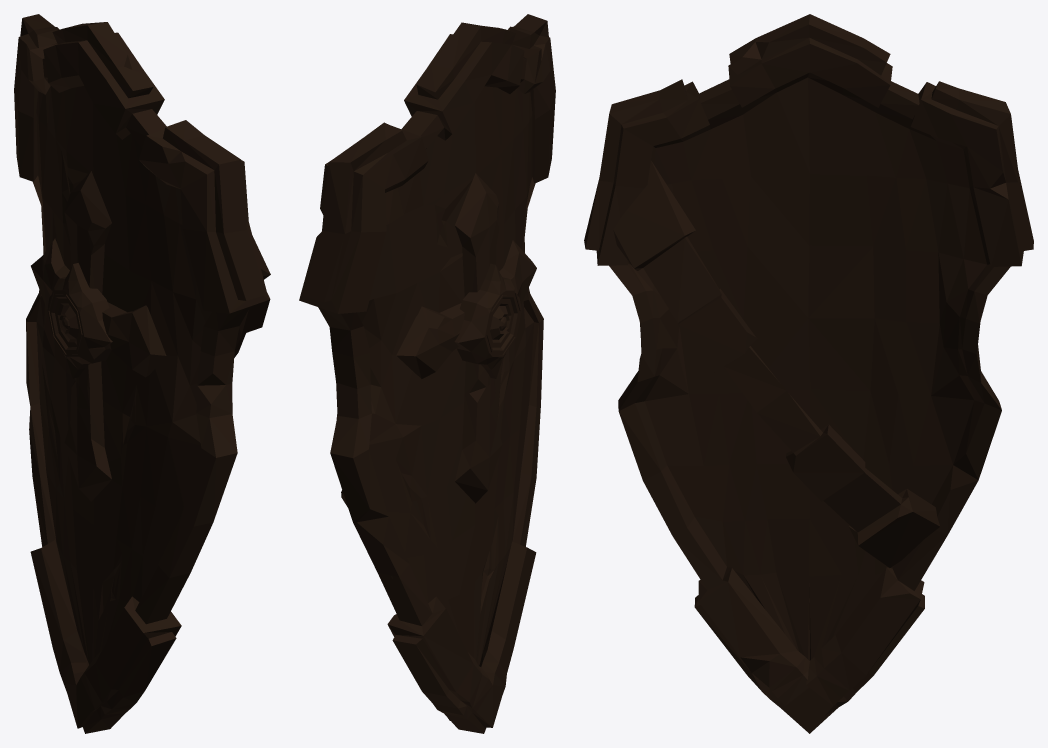
File: SFFA_Shield_Stone.fbx
3 renders of one model, left to right at view 1: azimuth 30°, elevation 25°; view 2: azimuth 150°, elevation 25°; view 3: azimuth 270°, elevation 25°, orthographic.
Visible parts, largest first — view 1: SFFA_Shield_Stone; view 2: SFFA_Shield_Stone; view 3: SFFA_Shield_Stone.
Part boxes in pixels (x1,y1,x2,y2): SFFA_Shield_Stone: (14,14,270,733); SFFA_Shield_Stone: (299,14,555,733); SFFA_Shield_Stone: (584,14,1033,733).
Size of the model in its own units: 27.96 by 124 by 71.05.
